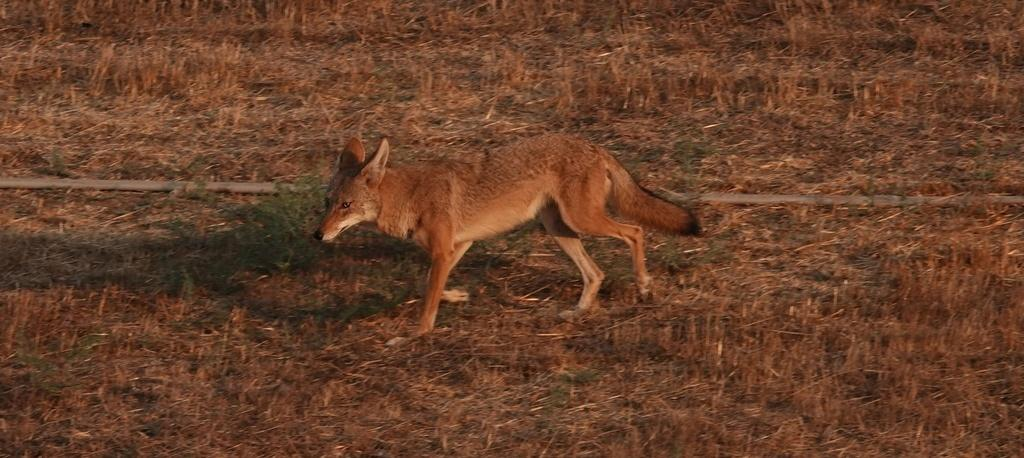Coyote: (308, 124, 707, 344)
